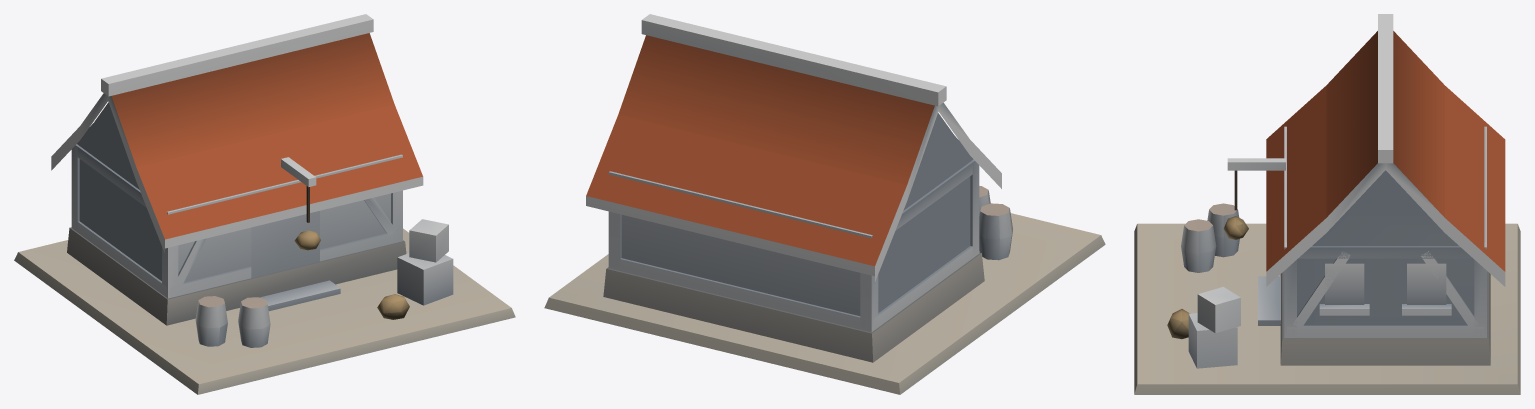
Rendered from storehouse_t2.glb.
3 views of the same model, side by side, from view 1: azimuth 30°, elevation 25°; view 2: azimuth 150°, elevation 25°; view 3: azimuth 270°, elevation 25° (orthographic). The views are drawn at different scales.
Parts seen in each view (by area): view 1: storehouse_t2; view 2: storehouse_t2; view 3: storehouse_t2.
Part boxes in pixels (<box>): storehouse_t2: <box>14,14,515,394</box>; storehouse_t2: <box>544,14,1105,394</box>; storehouse_t2: <box>1134,14,1520,394</box>.
Size of the model in its own units: 1.86 by 1.23 by 1.86.
